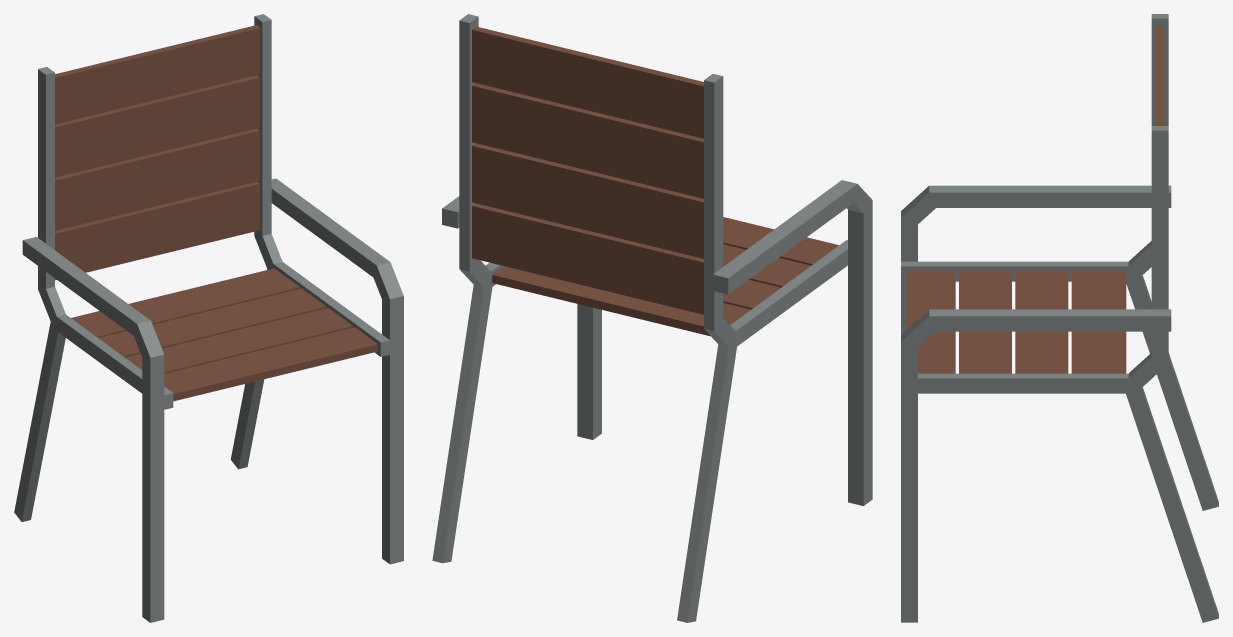
The model's file is SM_Props_Interior_Shop_Restaurant_Chair_02.fbx.
3 renders of one model, left to right at view 1: azimuth 30°, elevation 25°; view 2: azimuth 150°, elevation 25°; view 3: azimuth 270°, elevation 25°, orthographic. The views are drawn at different scales.
Parts seen in each view (by area): view 1: SM_Props_Interior_Shop_Restaurant_Chair_02; view 2: SM_Props_Interior_Shop_Restaurant_Chair_02; view 3: SM_Props_Interior_Shop_Restaurant_Chair_02.
Boxes of the visible parts, bbox=[...] form: SM_Props_Interior_Shop_Restaurant_Chair_02: bbox=[14, 14, 403, 622]; SM_Props_Interior_Shop_Restaurant_Chair_02: bbox=[432, 14, 872, 622]; SM_Props_Interior_Shop_Restaurant_Chair_02: bbox=[901, 14, 1218, 622].
Bounding box in the file's own units: 55 × 96.44 × 56.44.
